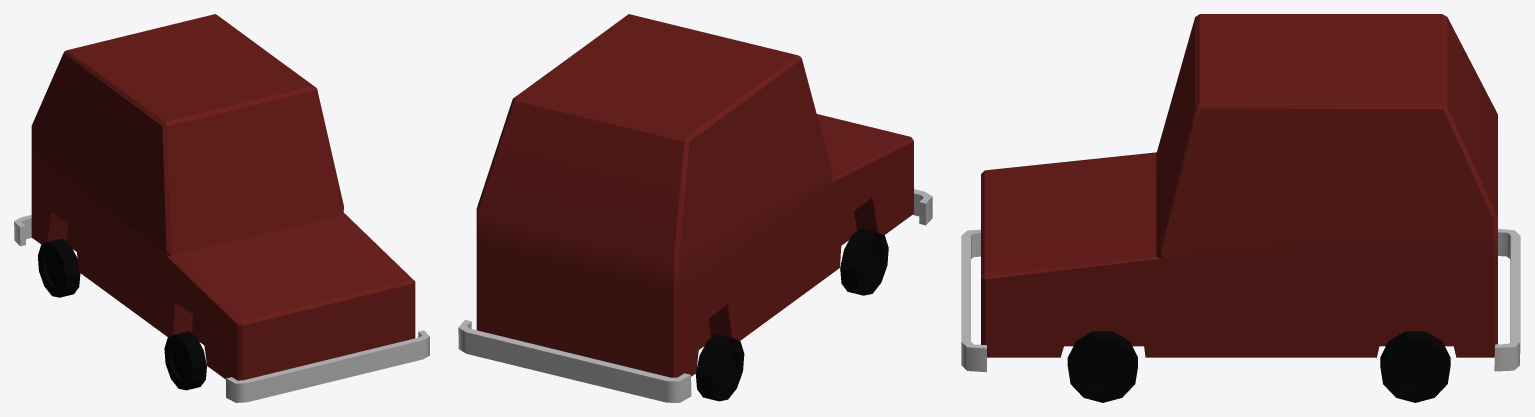
File: Car.fbx
3 renders of one model, left to right at view 1: azimuth 30°, elevation 25°; view 2: azimuth 150°, elevation 25°; view 3: azimuth 270°, elevation 25°, orthographic. The views are drawn at different scales.
Visible parts, largest first — view 1: pCylinder15 (×3); view 2: pCylinder15 (×3); view 3: pCylinder15 (×3).
Boxes of the visible parts, box(x1,y1,x2,y2) form: pCylinder15 (×3): box(14, 14, 429, 402); pCylinder15 (×3): box(458, 14, 932, 402); pCylinder15 (×3): box(961, 14, 1520, 402).
Bounding box in the file's own units: 3.69 × 4.12 × 7.3.
